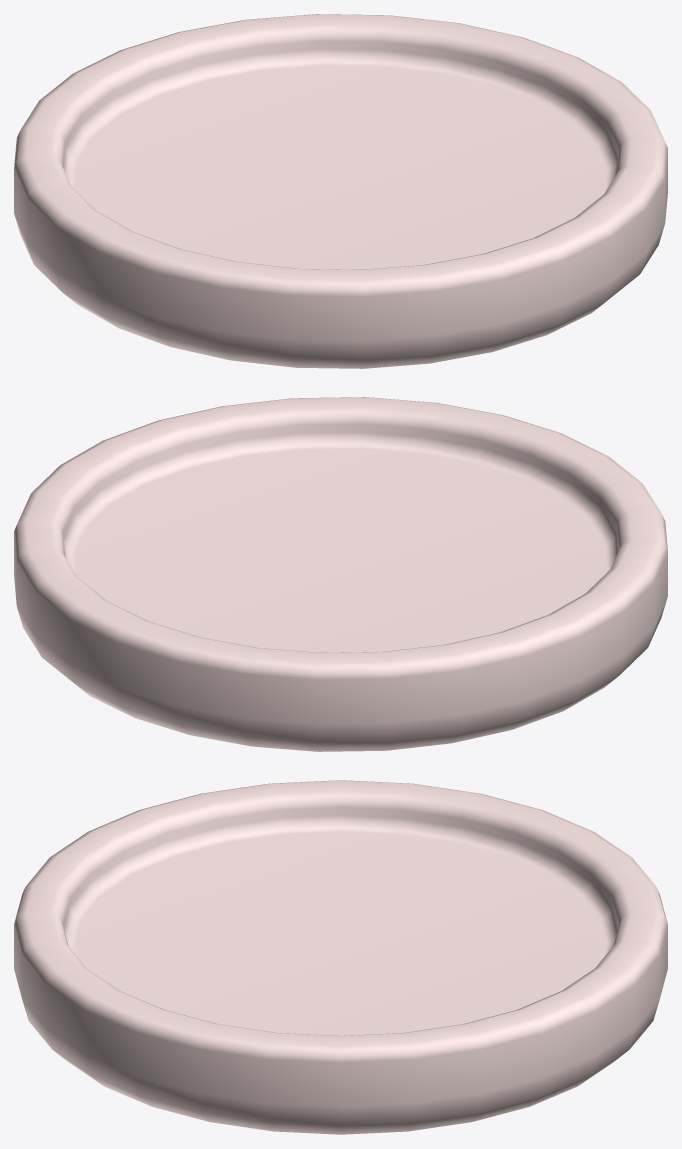
Rendered from Store_12_Plate_1.glb.
The picture shows the model from 3 angles, top to bottom: view 1: azimuth 30°, elevation 25°; view 2: azimuth 150°, elevation 25°; view 3: azimuth 270°, elevation 25°; orthographic projection.
Parts seen in each view (by area): view 1: Store_12_Plate_1; view 2: Store_12_Plate_1; view 3: Store_12_Plate_1.
Boxes of the visible parts, box(x1,y1,x2,y2) form: Store_12_Plate_1: box(14, 14, 667, 368); Store_12_Plate_1: box(14, 397, 667, 751); Store_12_Plate_1: box(14, 780, 667, 1134).
Bounding box in the file's own units: 0.5139 × 0.0859 × 0.5139.
Materials: 1 (1 with a texture image).
